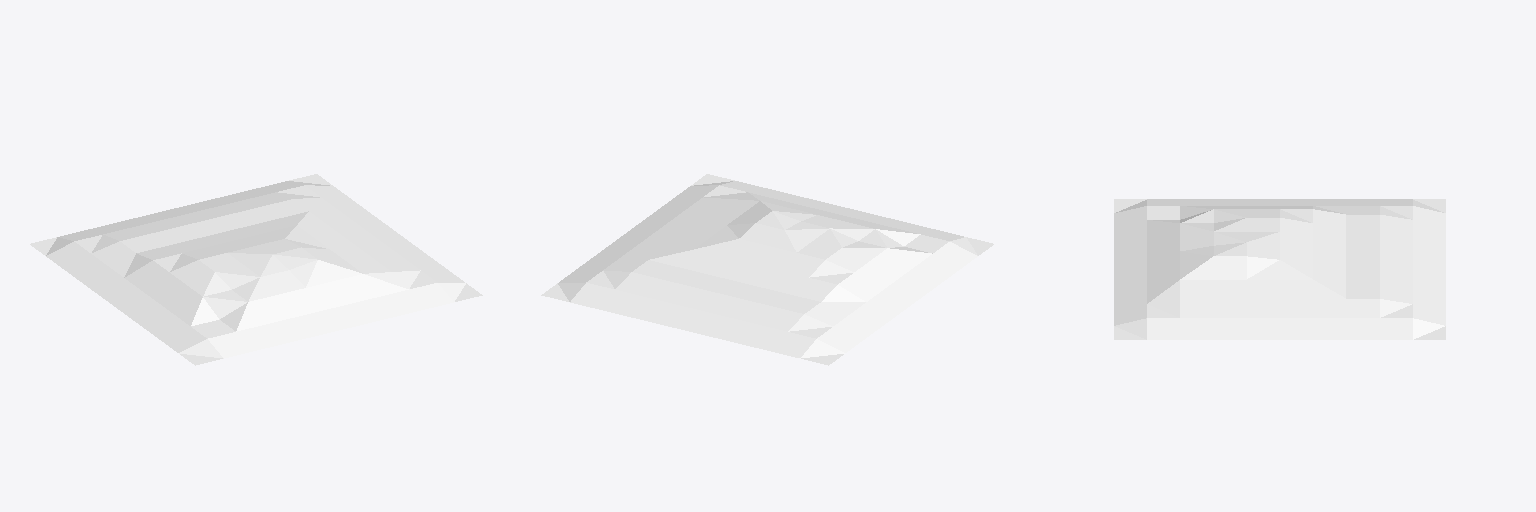
The model's file is 30x30_grass.obj.
3 views of the same model, side by side, from view 1: azimuth 30°, elevation 25°; view 2: azimuth 150°, elevation 25°; view 3: azimuth 270°, elevation 25° (orthographic).
Parts seen in each view (by area): view 1: grid3; view 2: grid3; view 3: grid3.
Part boxes in pixels (x1,y1,x2,y2): grid3: (30,174,482,365); grid3: (541,174,993,365); grid3: (1114,199,1445,339).
Size of the model in its own units: 30 by 2.73 by 30.